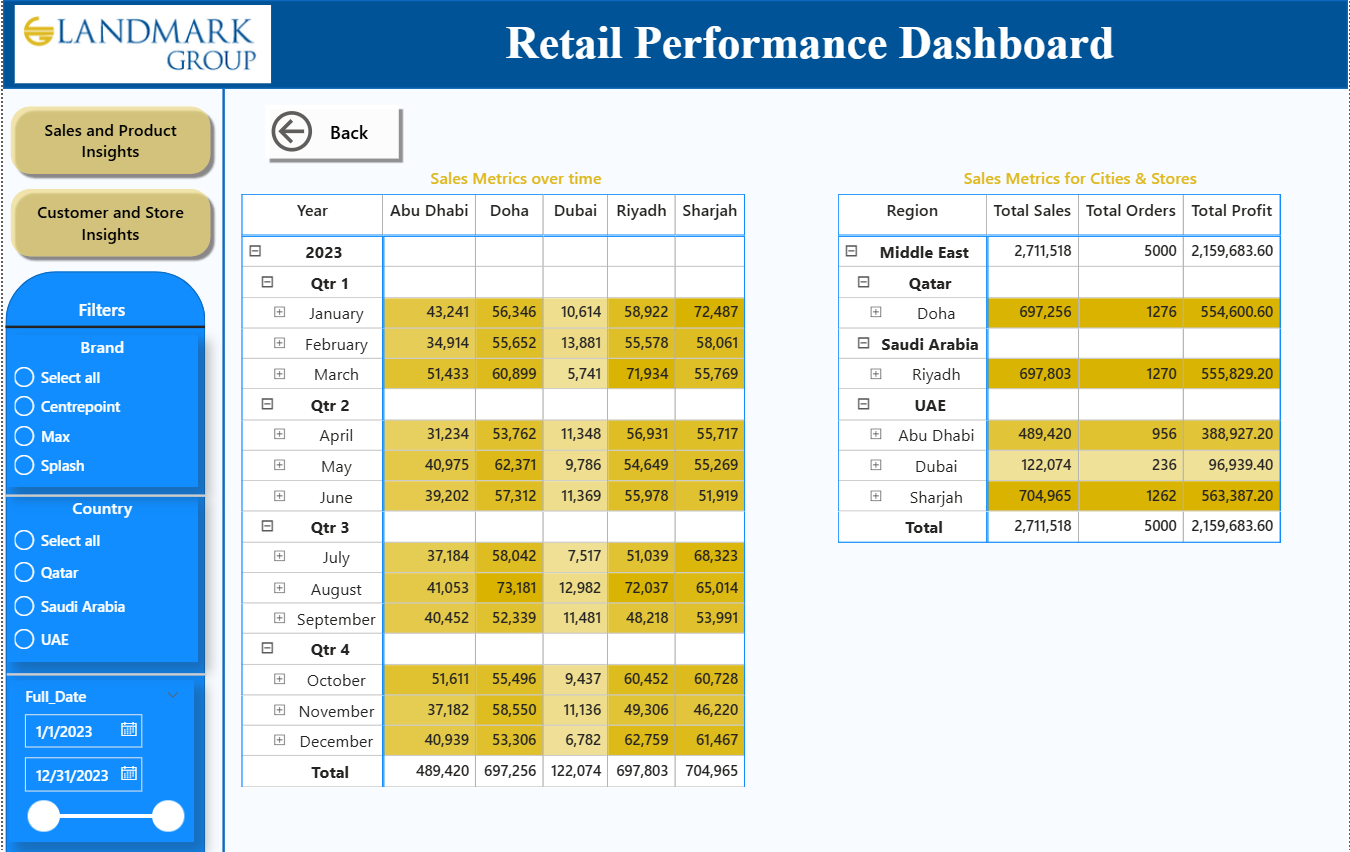

What the dashboard file says about the page in this screenshot:
{"tool":"powerbi","page":{"name":"Detailed Sales Analysis","canvas":[1100,700],"ordinal":3},"visuals":[{"type":"shape","box":[0,0,1099.9,72.6],"z":0},{"type":"image","box":[0,4.1,229,64.4],"z":1000},{"type":"textbox","box":[396.6,8.2,526.4,60.3],"z":2000},{"type":"shape","box":[151.3,72.6,58.3,627.6],"z":3000},{"type":"shape","box":[2,221.8,163.6,478.4],"z":4000},{"type":"textbox","box":[51.1,238.2,59.3,35.8],"z":5000},{"type":"listSlicer","fields":{"Values":["dim_product.Brand"]},"box":[3.1,273.9,156.4,123.7],"z":6000},{"type":"shape","box":[2,248.4,163.6,37.8],"z":7000},{"type":"listSlicer","fields":{"Values":["dim_store.Country"]},"box":[3.1,405.8,156.4,134.9],"z":8000},{"type":"slicer","fields":{"Values":["dim_date.Full_Date"]},"box":[5.1,556.1,151.3,132.9],"z":9000},{"type":"shape","box":[2,386.4,163.6,37.8],"z":10000},{"type":"shape","box":[3.1,532.6,163.6,37.8],"z":11000},{"type":"actionButton","box":[0,80.8,175.8,67.7],"z":12000},{"type":"actionButton","box":[0,148.5,175.8,67.7],"z":13000},{"type":"pivotTable","title":"Sales Metrics over time","fields":{"Rows":["dim_date.Full_Date.Variation.Date Hierarchy.Year","dim_date.Full_Date.Variation.Date Hierarchy.Quarter","dim_date.Full_Date.Variation.Date Hierarchy.Month","dim_date.Full_Date.Variation.Date Hierarchy.Day"],"Columns":["dim_store.City"],"Values":["Measures Executive Overview.Total Sales"]},"box":[190.5,135.8,458.9,541.1],"z":14000},{"type":"actionButton","box":[209.5,81.1,118.9,53.7],"z":15000},{"type":"pivotTable","title":"Sales Metrics for Cities & Stores","fields":{"Rows":["dim_store.Region","dim_store.Country","dim_store.City","dim_store.Store_Name"],"Values":["Measures Executive Overview.Total Sales","Measures Executive Overview.Total Orders","Measures Executive Overview.Total Profit"]},"box":[677.9,135.8,406.3,528.4],"z":16000}]}

Visuals, with their boxes in screenshot pixels (x1, y1, x2, y2), scaled from the page's 1100x700 canvas onto the 1350x852 screenshot:
shape: 0, 0, 1349, 88
image: 0, 5, 281, 83
textbox: 487, 10, 1133, 83
shape: 186, 88, 257, 851
shape: 2, 270, 203, 851
textbox: 63, 290, 135, 333
listSlicer - dim_product.Brand: 4, 333, 196, 484
shape: 2, 302, 203, 348
listSlicer - dim_store.Country: 4, 494, 196, 658
slicer - dim_date.Full_Date: 6, 677, 192, 839
shape: 2, 470, 203, 516
shape: 4, 648, 205, 694
actionButton: 0, 98, 216, 181
actionButton: 0, 181, 216, 263
"Sales Metrics over time" pivotTable: 234, 165, 797, 824
actionButton: 257, 99, 403, 164
"Sales Metrics for Cities & Stores" pivotTable: 832, 165, 1331, 808
